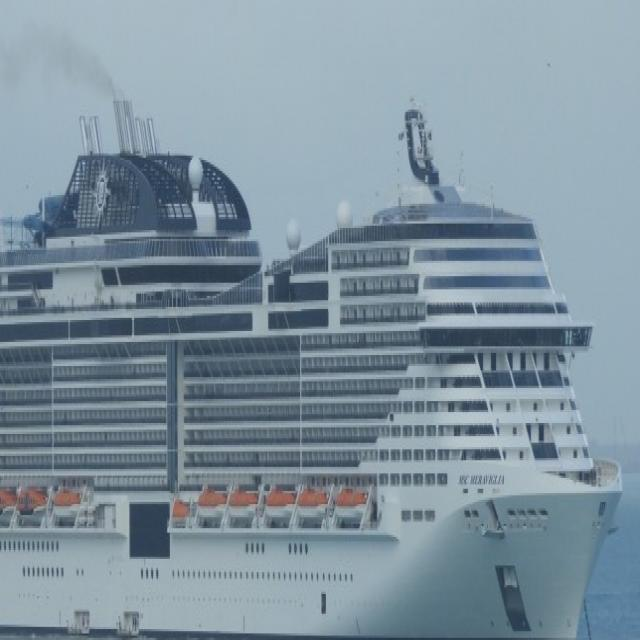cruises: (1, 82, 628, 640)
